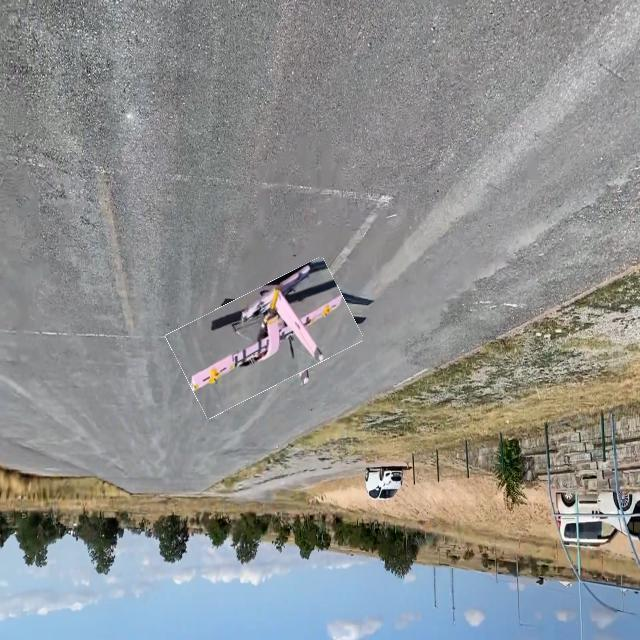iha: (179, 307, 344, 345)
